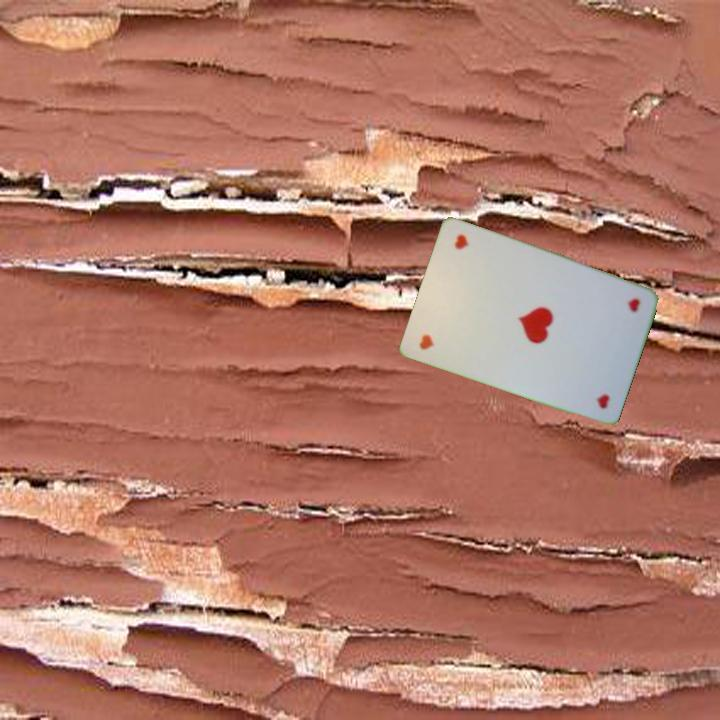h_a.png: (575, 277, 650, 358), (410, 285, 485, 366)
